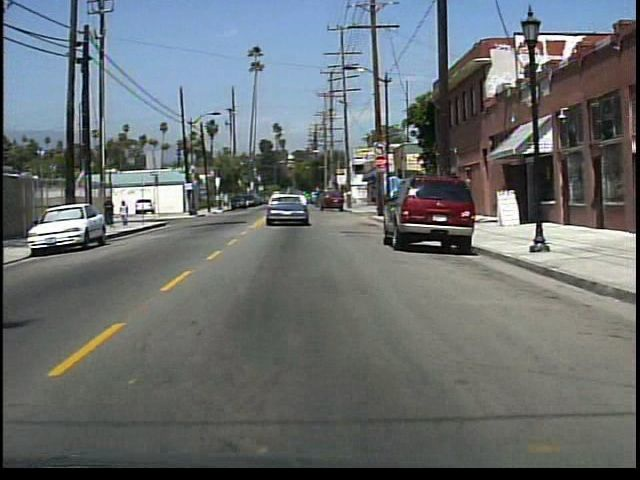person: (104, 196, 120, 230), (120, 199, 134, 231)
